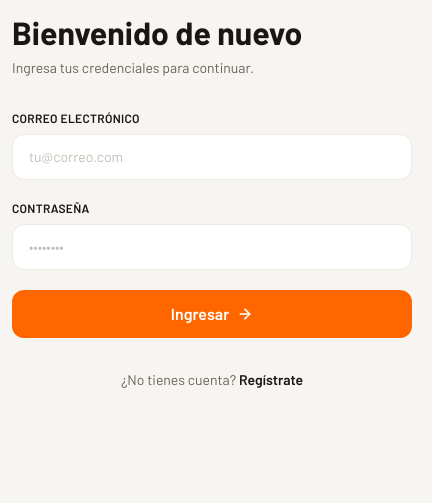
Test: LoginPage › shows server error when credentials are incorrect
Type "user@example.com" into the field labelled "Correo electrónico" at (212, 157), box [12,134,412,180]
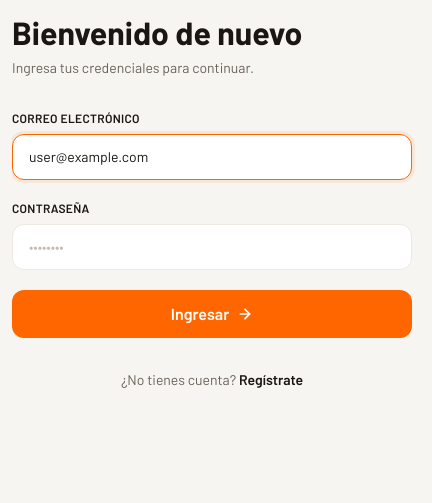
Type "wrongpassword" into the password field labelled "Contraseña" at (212, 247), box [12,224,412,270]
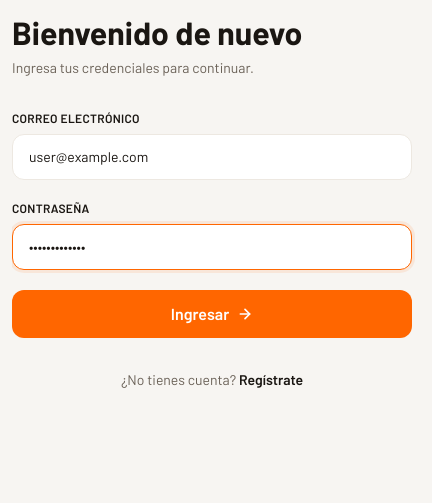
Click the button "Ingresar" at (212, 314), box [12,290,412,338]
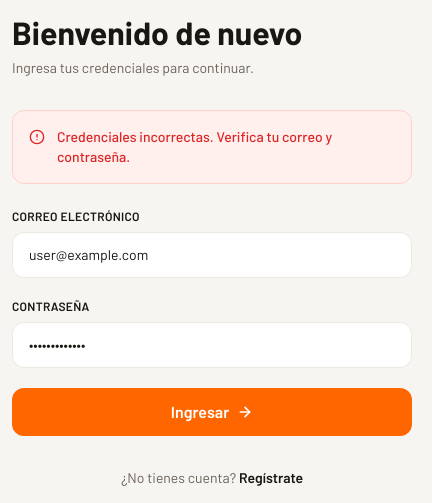
Expected: the message "Credenciales incorrectas. Verifica tu correo y contraseña." is shown, [12,110,412,184]
Expected: the text "Credenciales incorrectas. Verifica tu correo y contraseña." is shown, [57,128,332,165]
